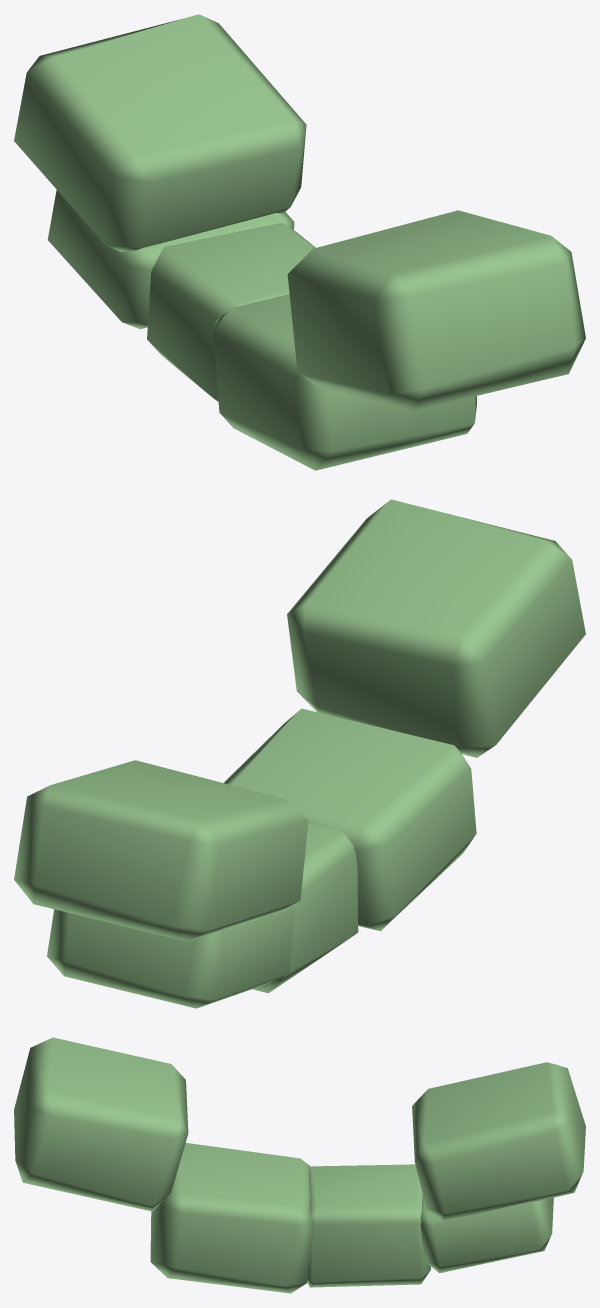
File: Wall_Battlements_01B_Break_Lod0.fbx
3 views of the same model, one above another, from view 1: azimuth 30°, elevation 25°; view 2: azimuth 150°, elevation 25°; view 3: azimuth 270°, elevation 25° (orthographic). The views are drawn at different scales.
Visible parts, largest first — view 1: Wall_Battlements_01B_Break_Lod0; view 2: Wall_Battlements_01B_Break_Lod0; view 3: Wall_Battlements_01B_Break_Lod0.
Part boxes in pixels (x1=…): Wall_Battlements_01B_Break_Lod0: x1=14, y1=14, x2=585, y2=470; Wall_Battlements_01B_Break_Lod0: x1=14, y1=499, x2=585, y2=1008; Wall_Battlements_01B_Break_Lod0: x1=14, y1=1037, x2=585, y2=1293.
Size of the model in its own units: 41.95 by 54.8 by 140.
